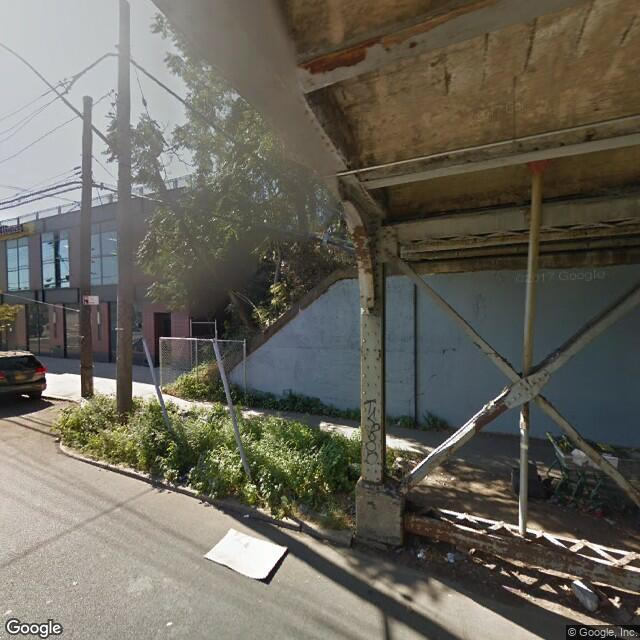litter: (202, 522, 291, 585), (572, 578, 597, 615), (528, 464, 543, 499), (603, 589, 618, 615), (509, 463, 518, 498), (465, 548, 481, 565), (558, 583, 572, 602), (556, 491, 569, 508), (593, 506, 605, 519), (442, 553, 457, 563), (239, 511, 252, 519), (322, 537, 333, 546), (416, 550, 428, 558), (72, 581, 81, 590), (166, 621, 177, 627)
